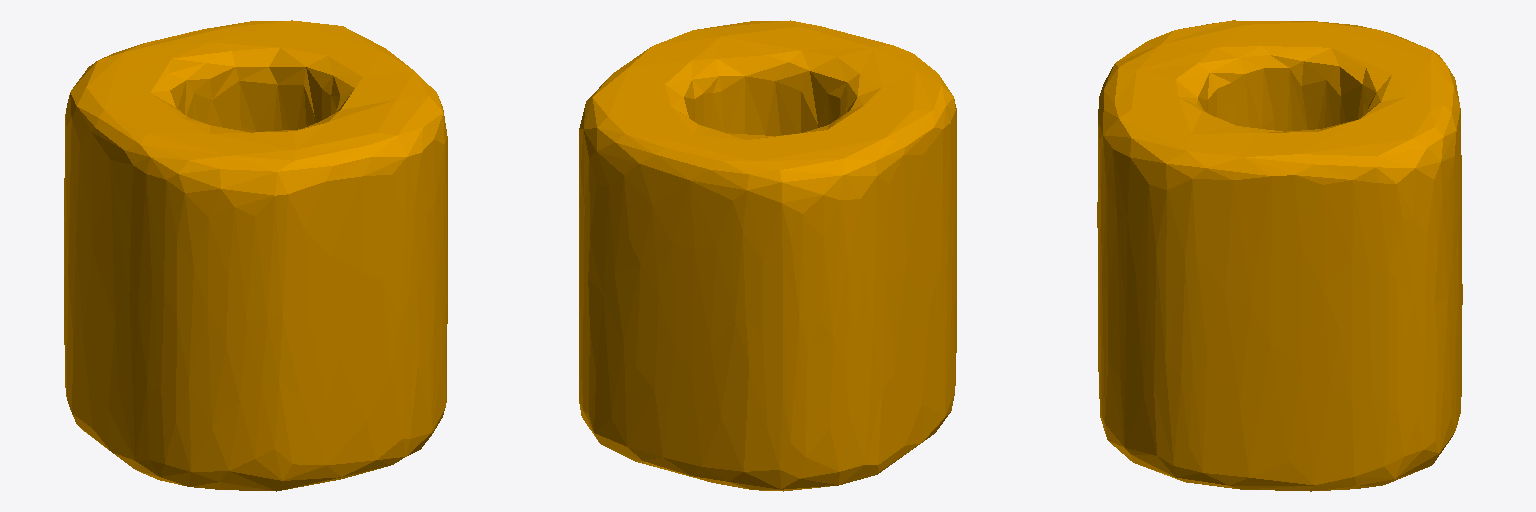
URDF robot description (toilet_paper_poisson_000):
<?xml version="1.0"?>
<robot name="toilet_paper_poisson_000">
  <link name="base_link">
    <contact>
      <lateral_friction value="1.0"/>
      <rolling_friction value="0.0"/>
      <contact_cfm value="0.0"/>
      <contact_erp value="1.0"/>
    </contact>
    <inertial>
      <mass value="2.17259972633"/>
      <inertia ixx="1" ixy="0" ixz="0" iyy="1" iyz="0" izz="1"/>
    </inertial>
    <visual>
      <geometry>
        <mesh filename="toilet_paper_poisson_000_visual.obj"/>
      </geometry>
    </visual>
    <collision>
      <geometry>
        <mesh filename="toilet_paper_poisson_000_collision.obj"/>
      </geometry>
    </collision>
  </link>
</robot>

--- Facts derived from the render (not from the file) ---
3 views of the same robot in one strip: view 1: azimuth 30°, elevation 25°; view 2: azimuth 150°, elevation 25°; view 3: azimuth 270°, elevation 25° (orthographic).
Model toilet_paper_poisson_000 with 1 links and 0 joints (none), rooted at base_link, posed all joints at 0.
Links seen in each view (by area): view 1: base_link; view 2: base_link; view 3: base_link.
Boxes of the visible links, x1,y1,x2,y2 form: base_link: (64,20,447,491); base_link: (579,20,956,491); base_link: (1097,20,1462,491).
Size in the robot's own frame: 0.0677 by 0.07 by 0.0715 metres.
Meshes: 1 distinct files referenced, 1 mesh visuals loaded (1 OBJ).